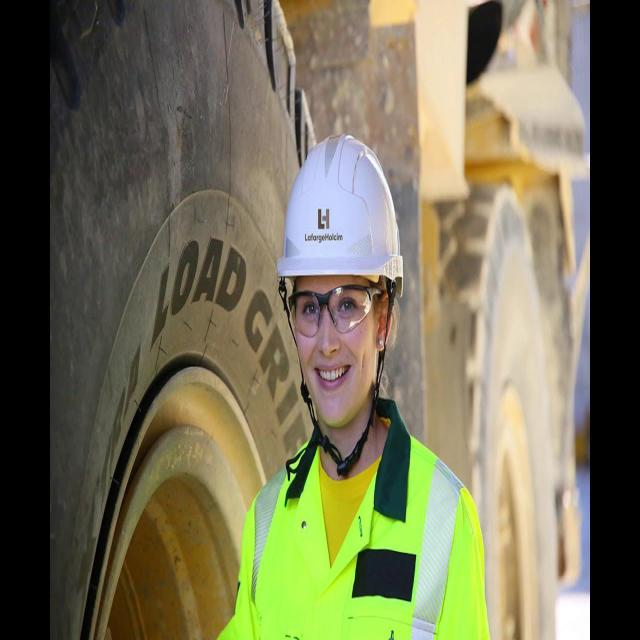helmet: (276, 132, 404, 286)
